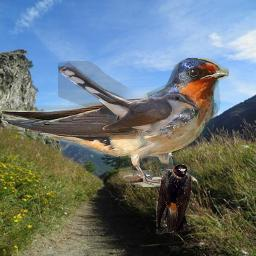Cuckoo: (58, 61, 200, 152)
Swallow: (2, 58, 229, 187), (156, 164, 192, 234)
